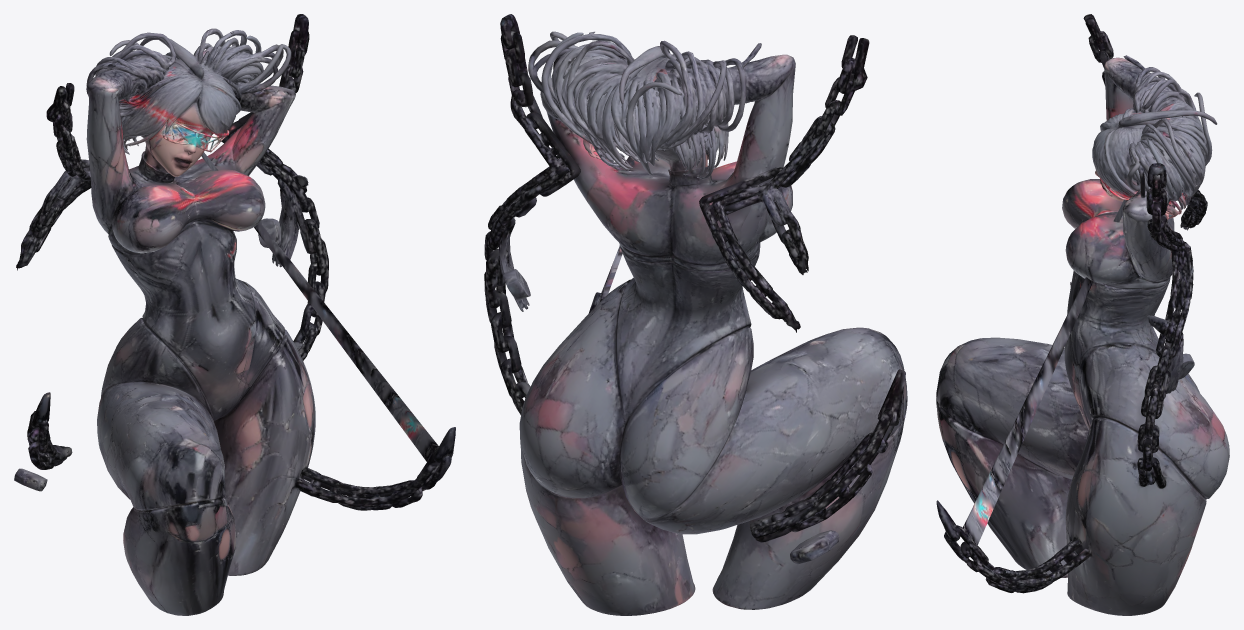
Rendered from 01a1980f-d2e4-74a3-9906-997979aac101.glb.
3 renders of one model, left to right at view 1: azimuth 30°, elevation 25°; view 2: azimuth 150°, elevation 25°; view 3: azimuth 270°, elevation 25°, orthographic. The views are drawn at different scales.
Parts seen in each view (by area): view 1: node_0; view 2: node_0; view 3: node_0.
Part boxes in pixels (x1,y1,x2,y2): node_0: (14,14,455,615); node_0: (484,14,907,615); node_0: (936,14,1229,615).
Size of the model in its own units: 0.7284 by 1.04 by 0.5548.
1 material, 1 textured.
